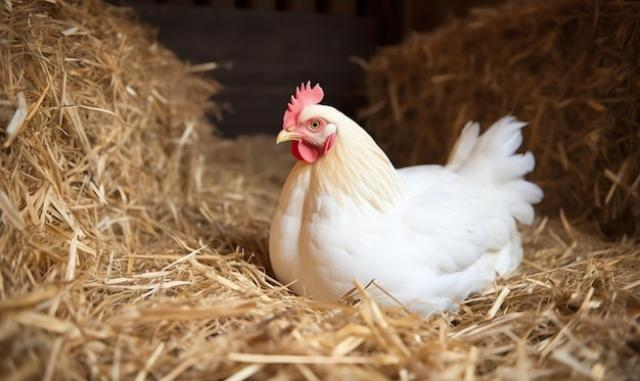Chicken: (269, 80, 543, 322)
